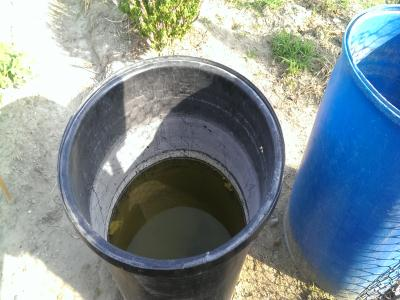bucket: (54, 52, 289, 299), (281, 3, 400, 300)
